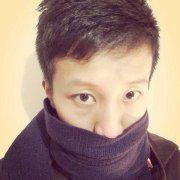WRONG: (56, 73, 147, 164)
